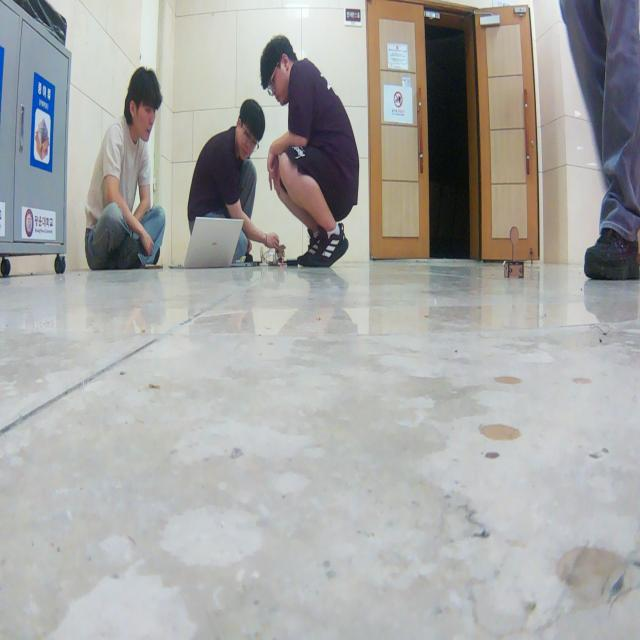target: (503, 224, 526, 279)
